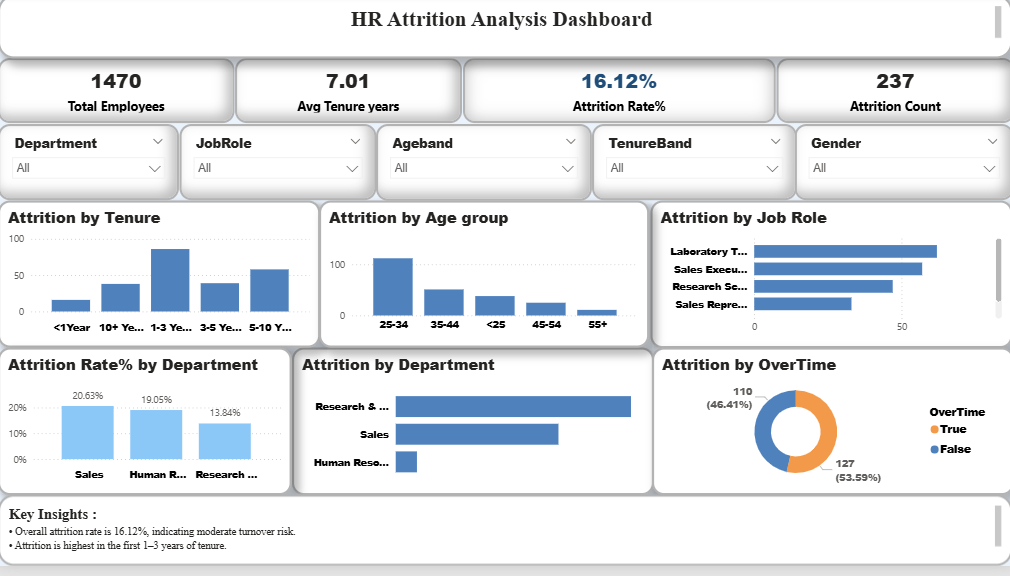

This screenshot's page, from the dashboard's own definition file:
{"tool":"powerbi","page":{"name":"Page 1","canvas":[1280,720],"ordinal":0},"visuals":[{"type":"card","fields":{"Values":["ibm_hr_clean2.Total Employees"]},"box":[0,80,298,82],"z":0},{"type":"card","fields":{"Values":["ibm_hr_clean2.Avg Tenure years"]},"box":[298,80,286,82],"z":1000},{"type":"card","fields":{"Values":["ibm_hr_clean2.Attrition Rate%"]},"box":[586,80,394,82],"z":2000},{"type":"card","fields":{"Values":["ibm_hr_clean2.Attrition Count"]},"box":[980,80,300,82],"z":3000},{"type":"clusteredBarChart","title":"Attrition by Department","fields":{"Category":["ibm_hr_clean2.Department"],"Y":["ibm_hr_clean2.Attrition Count"]},"box":[370,444,456,186],"z":4000},{"type":"columnChart","title":"Attrition by Tenure","fields":{"Category":["ibm_hr_clean2.TenureBand"],"Y":["ibm_hr_clean2.Attrition Count"]},"box":[0,258.9,406.3,185.2],"z":5000},{"type":"barChart","title":"Attrition by Job Role","fields":{"Category":["ibm_hr_clean2.JobRole"],"Y":["ibm_hr_clean2.Attrition Count"]},"box":[822,258,456,186],"z":6000},{"type":"donutChart","title":"Attrition by OverTime","fields":{"Category":["ibm_hr_clean2.OverTime"],"Y":["ibm_hr_clean2.Attrition Count"]},"box":[824,444,456,186],"z":7000},{"type":"columnChart","title":"Attrition  by Age group","fields":{"Category":["ibm_hr_clean2.Ageband"],"Y":["ibm_hr_clean2.Attrition Count"]},"box":[404.4,258.9,415.8,185.2],"z":8000},{"type":"columnChart","fields":{"Y":["ibm_hr_clean2.Attrition Rate%"],"Category":["ibm_hr_clean2.Department"]},"box":[0,444,370,186],"z":9000},{"type":"slicer","fields":{"Values":["ibm_hr_clean2.Department"]},"box":[0,162,228,96],"z":10000},{"type":"slicer","fields":{"Values":["ibm_hr_clean2.Gender"]},"box":[1004,162,276,96],"z":11000},{"type":"slicer","fields":{"Values":["ibm_hr_clean2.Ageband"]},"box":[476.2,162.5,272.1,96.4],"z":12000},{"type":"slicer","fields":{"Values":["ibm_hr_clean2.TenureBand"]},"box":[748,162,258,96],"z":13000},{"type":"slicer","fields":{"Values":["ibm_hr_clean2.JobRole"]},"box":[228,162,248,96],"z":14000},{"type":"textbox","box":[0,0,1278,80],"z":15000},{"type":"textbox","box":[0,630,1278,90],"z":16000}]}

Visuals, with their boxes in screenshot pixels (x1, y1, x2, y2), scaled from the page's 1280x720 canvas onto the 1010x576 screenshot:
card - ibm_hr_clean2.Total Employees: BBox(0, 64, 235, 130)
card - ibm_hr_clean2.Avg Tenure years: BBox(235, 64, 461, 130)
card - ibm_hr_clean2.Attrition Rate%: BBox(462, 64, 773, 130)
card - ibm_hr_clean2.Attrition Count: BBox(773, 64, 1009, 130)
"Attrition by Department" clusteredBarChart: BBox(292, 355, 652, 504)
"Attrition by Tenure" columnChart: BBox(0, 207, 321, 355)
"Attrition by Job Role" barChart: BBox(649, 206, 1008, 355)
"Attrition by OverTime" donutChart: BBox(650, 355, 1009, 504)
"Attrition  by Age group" columnChart: BBox(319, 207, 647, 355)
columnChart - ibm_hr_clean2.Attrition Rate% x ibm_hr_clean2.Department: BBox(0, 355, 292, 504)
slicer - ibm_hr_clean2.Department: BBox(0, 130, 180, 206)
slicer - ibm_hr_clean2.Gender: BBox(792, 130, 1009, 206)
slicer - ibm_hr_clean2.Ageband: BBox(376, 130, 590, 207)
slicer - ibm_hr_clean2.TenureBand: BBox(590, 130, 794, 206)
slicer - ibm_hr_clean2.JobRole: BBox(180, 130, 376, 206)
textbox: BBox(0, 0, 1008, 64)
textbox: BBox(0, 504, 1008, 575)
